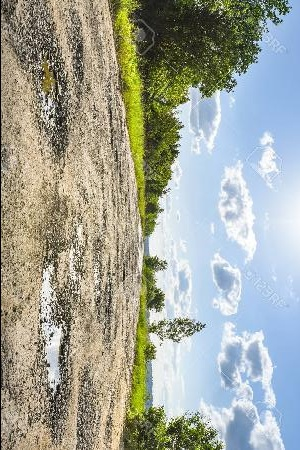pothole: (37, 250, 74, 426), (30, 28, 72, 151), (68, 28, 88, 85)
